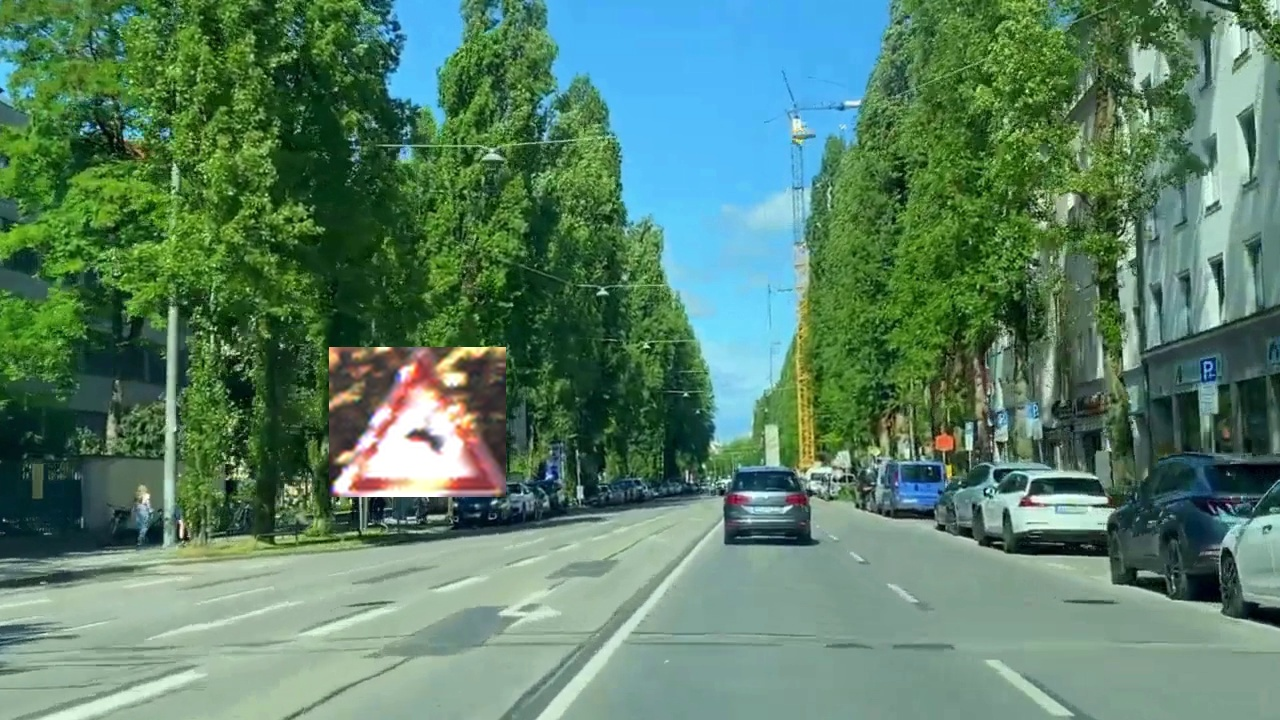Curve left: (329, 347, 506, 497)
